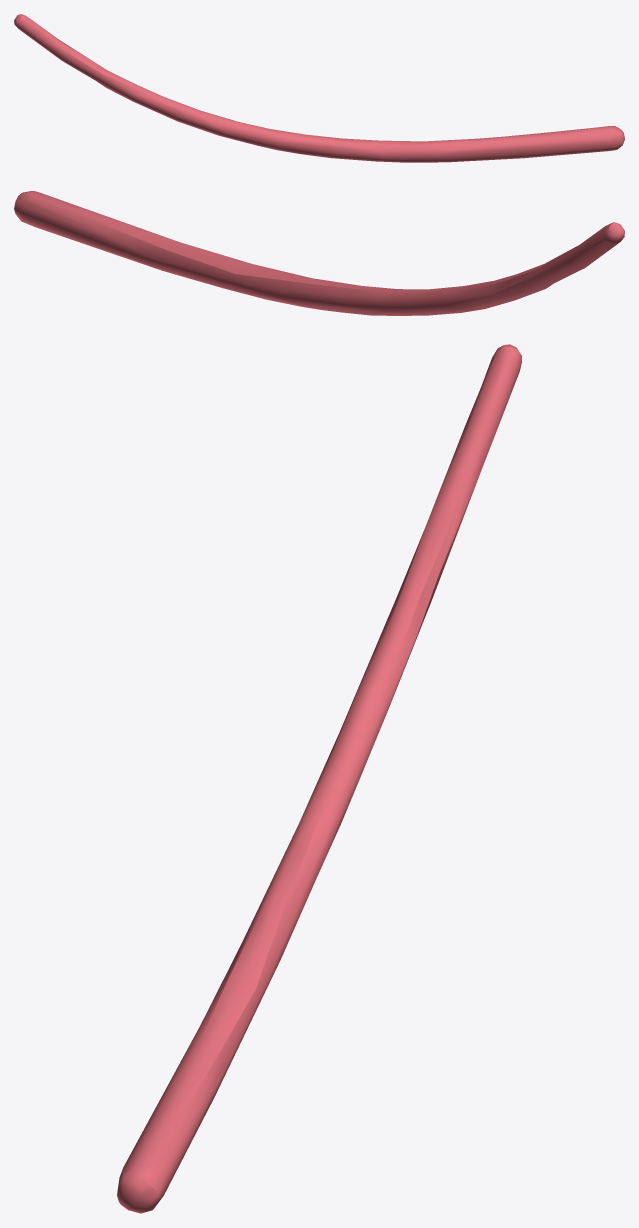
File: fma51016_fj4995.glb
3 renders of one model, top to bottom at view 1: azimuth 30°, elevation 25°; view 2: azimuth 150°, elevation 25°; view 3: azimuth 270°, elevation 25°, orthographic. The views are drawn at different scales.
Parts seen in each view (by area): view 1: FMA51016_FJ4995; view 2: FMA51016_FJ4995; view 3: FMA51016_FJ4995.
Part boxes in pixels (<box>): FMA51016_FJ4995: <box>14,14,624,162</box>; FMA51016_FJ4995: <box>14,191,624,315</box>; FMA51016_FJ4995: <box>117,344,521,1213</box>.
Bounding box in the file's own units: 0.0187 × 0.00654 × 0.00635.
